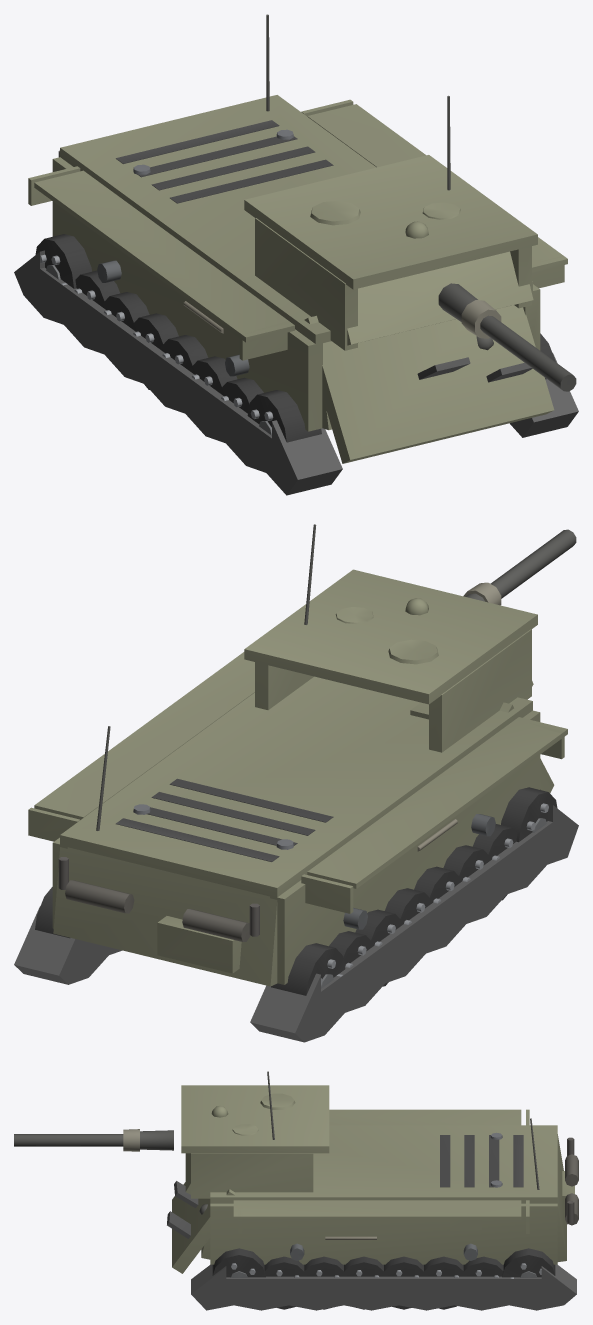
File: m7priest.glb
The picture shows the model from 3 angles, top to bottom: view 1: azimuth 30°, elevation 25°; view 2: azimuth 150°, elevation 25°; view 3: azimuth 270°, elevation 25°; orthographic projection. The views are drawn at different scales.
Visible parts, largest first — view 1: hullSide, hullTop, glacis, turretRoof, tracks, mantlet, turretSide, barrel, wheel6, wheel7, wheel1, wheel3 (+4 smaller); view 2: hullTop, hullSide, turretRoof, hullRear, tracks, turretSide, barrel, wheel7, wheel6, wheel3, wheel2, wheel4 (+3 smaller); view 3: hullSide, hullTop, tracks, turretRoof, turretSide, glacis, barrel, hullRear, wheel15, wheel14, wheel10, wheel9 (+4 smaller).
Part boxes in pixels (x1,y1,x2,y2): hullSide: (28, 99, 567, 431); hullTop: (60, 95, 532, 343); glacis: (304, 305, 554, 463); turretRoof: (244, 95, 537, 289); tracks: (14, 250, 578, 495); mantlet: (347, 251, 533, 345); turretSide: (255, 218, 531, 350); barrel: (438, 283, 576, 391); wheel6: (247, 390, 321, 442); wheel7: (35, 234, 91, 288); wheel1: (102, 292, 149, 331); wheel3: (161, 335, 208, 374); hullTop: (60, 676, 532, 897); hullSide: (28, 652, 567, 984); turretRoof: (244, 524, 537, 704); hullRear: (53, 726, 277, 986); tracks: (14, 804, 578, 1042); turretSide: (255, 629, 531, 752); barrel: (463, 529, 576, 605); wheel7: (271, 943, 345, 995); wheel6: (501, 787, 557, 842); wheel3: (414, 866, 461, 906); wheel2: (385, 888, 431, 927); wheel4: (443, 845, 490, 881); hullSide: (210, 1109, 557, 1264); hullTop: (210, 1125, 557, 1203); tracks: (191, 1224, 576, 1310); turretRoof: (181, 1071, 329, 1153); turretSide: (191, 1153, 313, 1198); glacis: (167, 1181, 234, 1273); barrel: (14, 1129, 173, 1151); hullRear: (530, 1118, 578, 1261); wheel15: (502, 1248, 555, 1278); wheel14: (212, 1248, 265, 1277); wheel10: (380, 1256, 426, 1309); wheel9: (420, 1256, 467, 1309).
Size of the model in its own units: 3.93 by 3.71 by 8.78.
